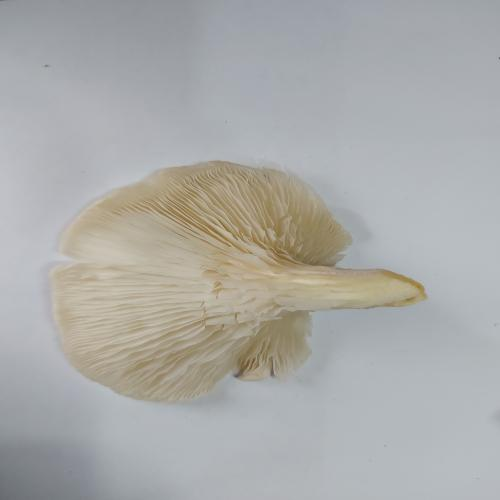Oyster Mushroom: (49, 159, 428, 403)
